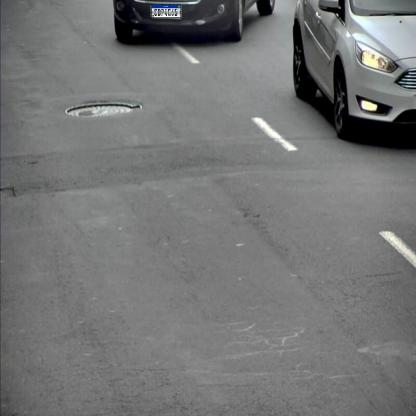PlacaM: (151, 4, 181, 18)
